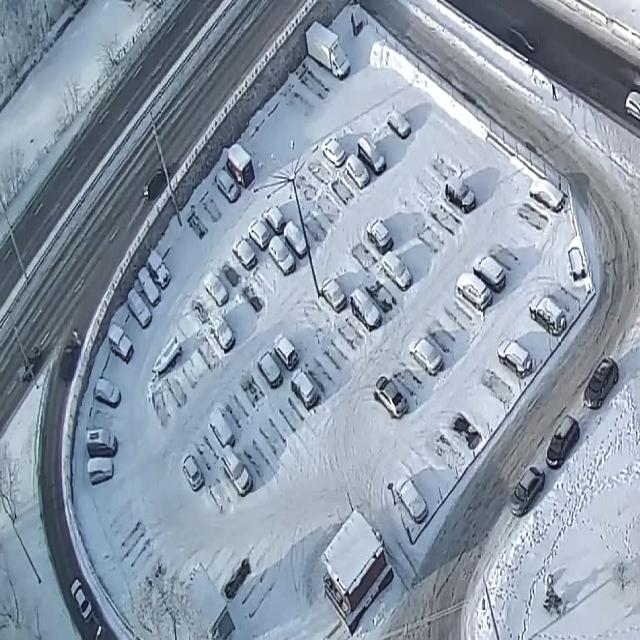car: (305, 18, 351, 82), (509, 463, 546, 521), (583, 355, 620, 413), (546, 413, 580, 473), (394, 472, 429, 525), (220, 444, 252, 498), (530, 294, 567, 339), (496, 335, 533, 379), (374, 373, 408, 420), (408, 332, 443, 377), (349, 286, 383, 332), (502, 17, 540, 57), (381, 247, 413, 293), (472, 252, 507, 294), (457, 271, 492, 313), (529, 176, 566, 214), (226, 143, 255, 191), (208, 406, 236, 452), (444, 174, 476, 213), (358, 134, 386, 178), (290, 369, 319, 411), (268, 236, 297, 278), (209, 309, 236, 354), (59, 331, 81, 385), (366, 216, 394, 258), (256, 348, 283, 390), (142, 164, 168, 207), (108, 322, 135, 363), (126, 288, 153, 329), (137, 265, 161, 311), (320, 276, 348, 315), (180, 450, 206, 492), (283, 218, 309, 260), (147, 248, 172, 291), (70, 576, 92, 624), (245, 214, 272, 253), (202, 271, 230, 308), (87, 428, 119, 459), (215, 168, 241, 205), (264, 198, 288, 238), (231, 236, 258, 271), (20, 342, 43, 383), (86, 455, 115, 487), (94, 377, 122, 410), (275, 334, 299, 372), (346, 154, 370, 191), (386, 108, 412, 141), (322, 135, 347, 169)
